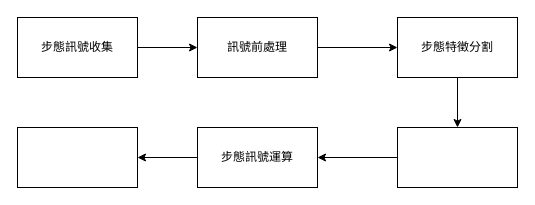
Image size: 535x205. Some labels were removed from this diagram. The shapes that lost their labels are listed below. From the top down, each one's centre as x and y in pixels, then its label:
At (x=77, y=157): "統計與分析".
At (x=457, y=157): "步態訊號分類".
